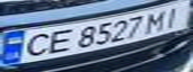2: (109, 17, 133, 43)
5: (93, 19, 115, 47)
7: (124, 12, 151, 38)
8: (75, 22, 100, 50)
C: (9, 29, 57, 60)
E: (36, 26, 78, 55)
I: (157, 2, 190, 29)
M: (139, 8, 172, 34)
